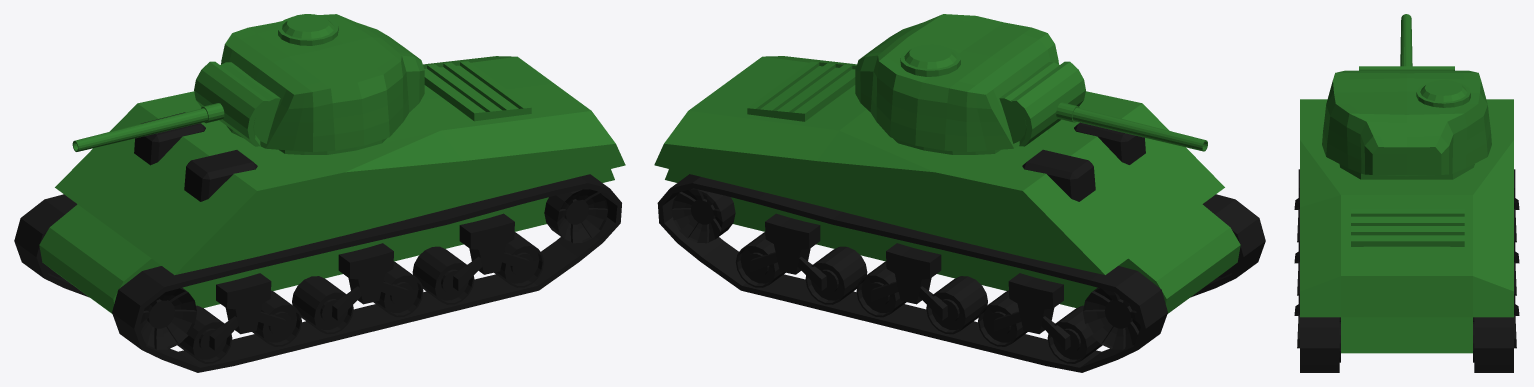
Rendered from sherman2.fbx.
3 views of the same model, side by side, from view 1: azimuth 30°, elevation 25°; view 2: azimuth 150°, elevation 25°; view 3: azimuth 270°, elevation 25° (orthographic). The views are drawn at different scales.
Parts seen in each view (by area): view 1: tankbody, turret; view 2: tankbody, turret; view 3: tankbody, turret.
Part boxes in pixels (x1,y1,x2,y2): tankbody: (14,56,625,372); turret: (72,14,424,154); tankbody: (654,56,1265,372); turret: (855,14,1207,154); tankbody: (1294,99,1519,372); turret: (1322,14,1491,179).
Bounding box in the file's own units: 405 × 189 × 176.
